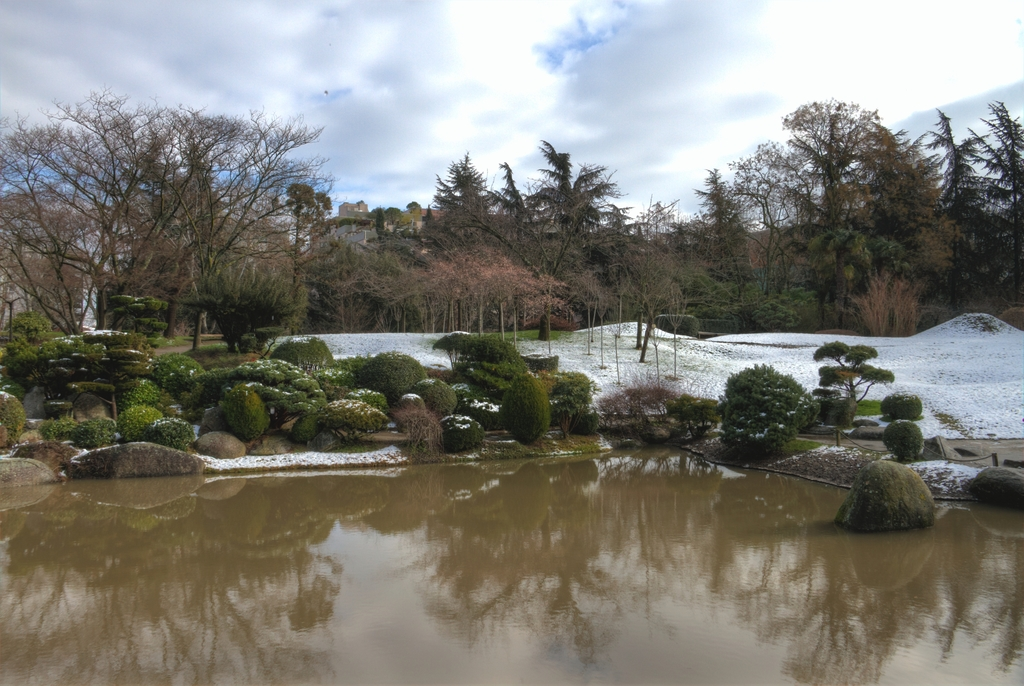Tree: (0, 79, 558, 437), (643, 89, 1023, 341), (422, 132, 640, 300)
